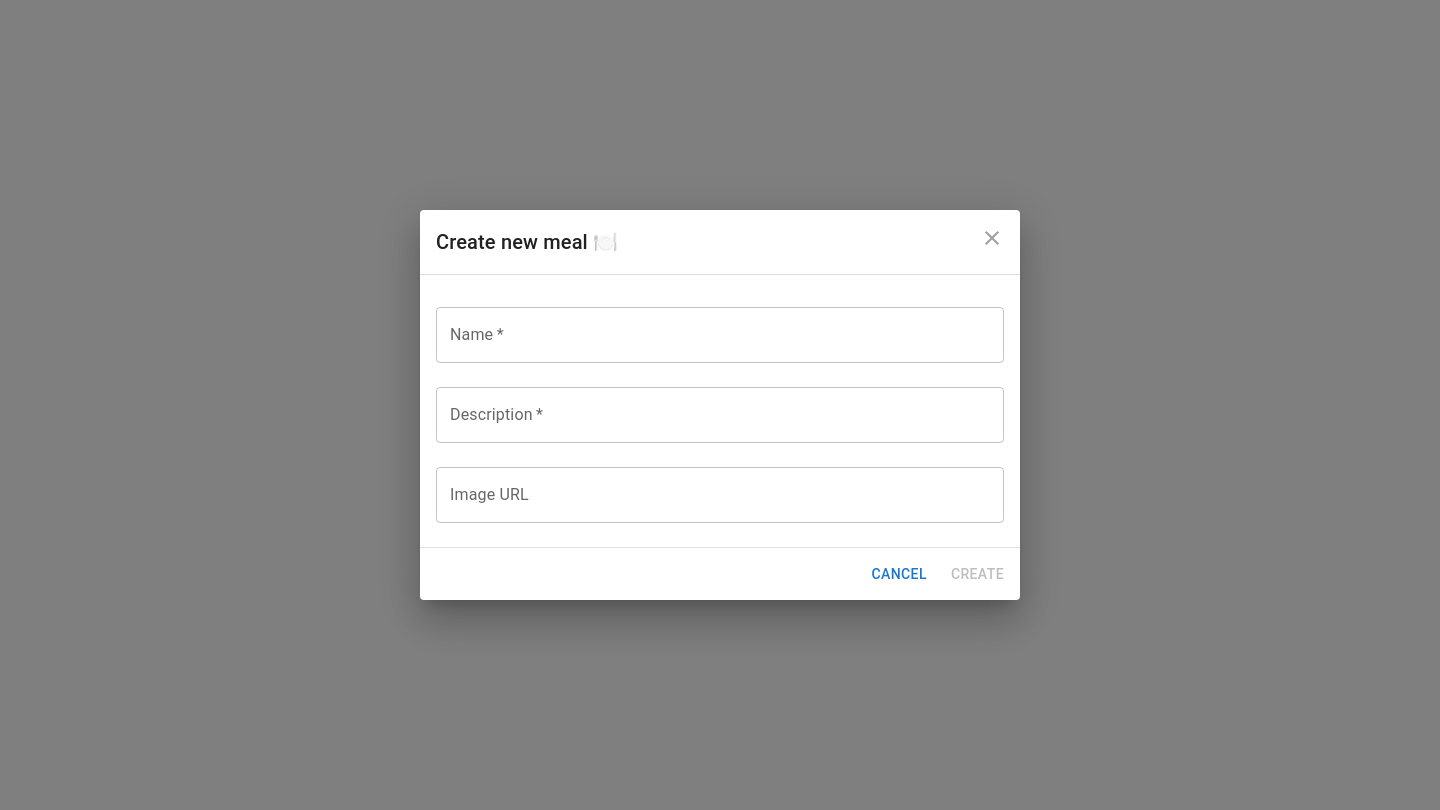
Test: Confirm button should be disabled if there is no name and description
Expected: the button "Create" is disabled, [943,556,1012,592]
In the field labelled "Name *": (720, 335) [436,307,1004,363], type "type something"
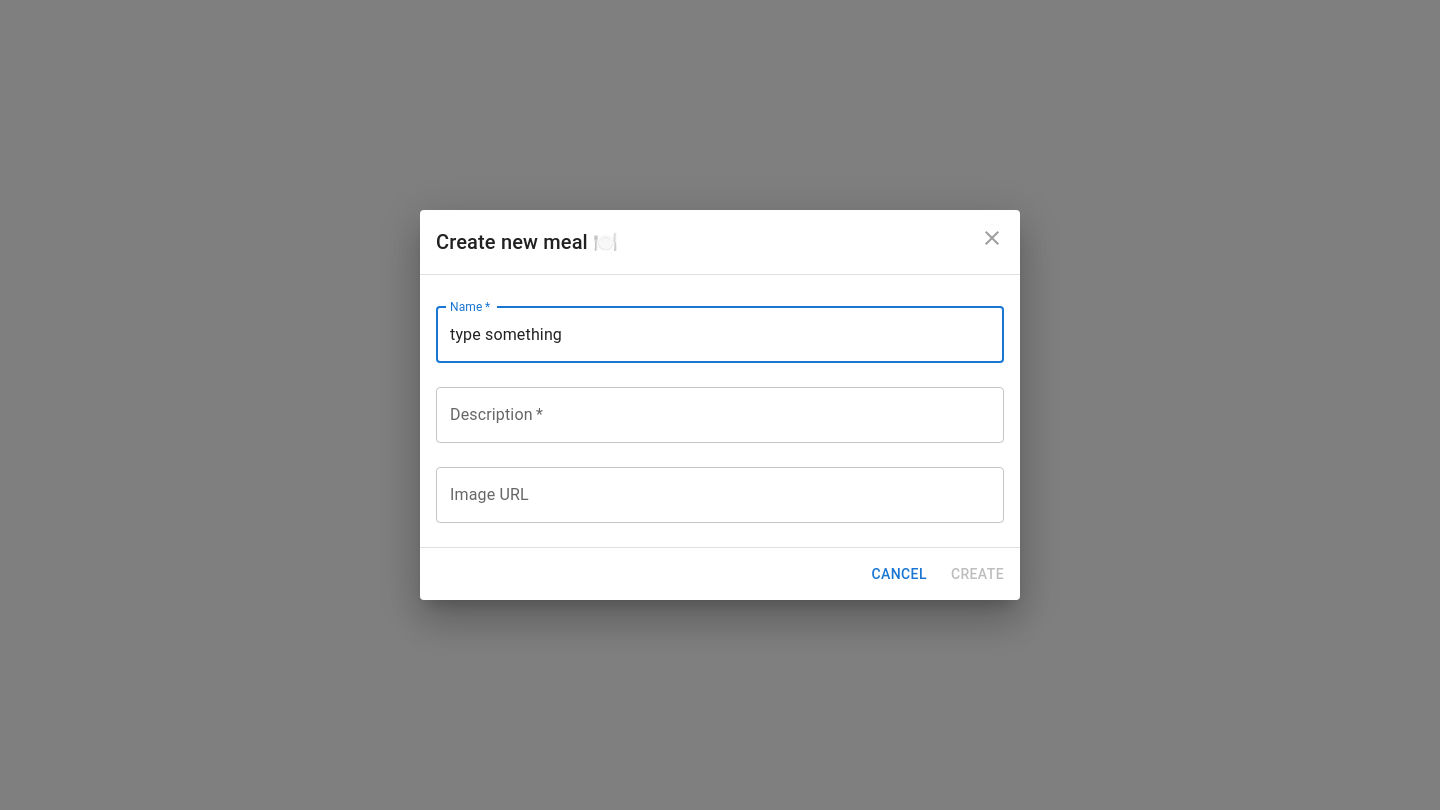
Expected: the button "Create" is disabled, [943,556,1012,592]
In the field labelled "Description *": (720, 415) [436,387,1004,443], type "type something"
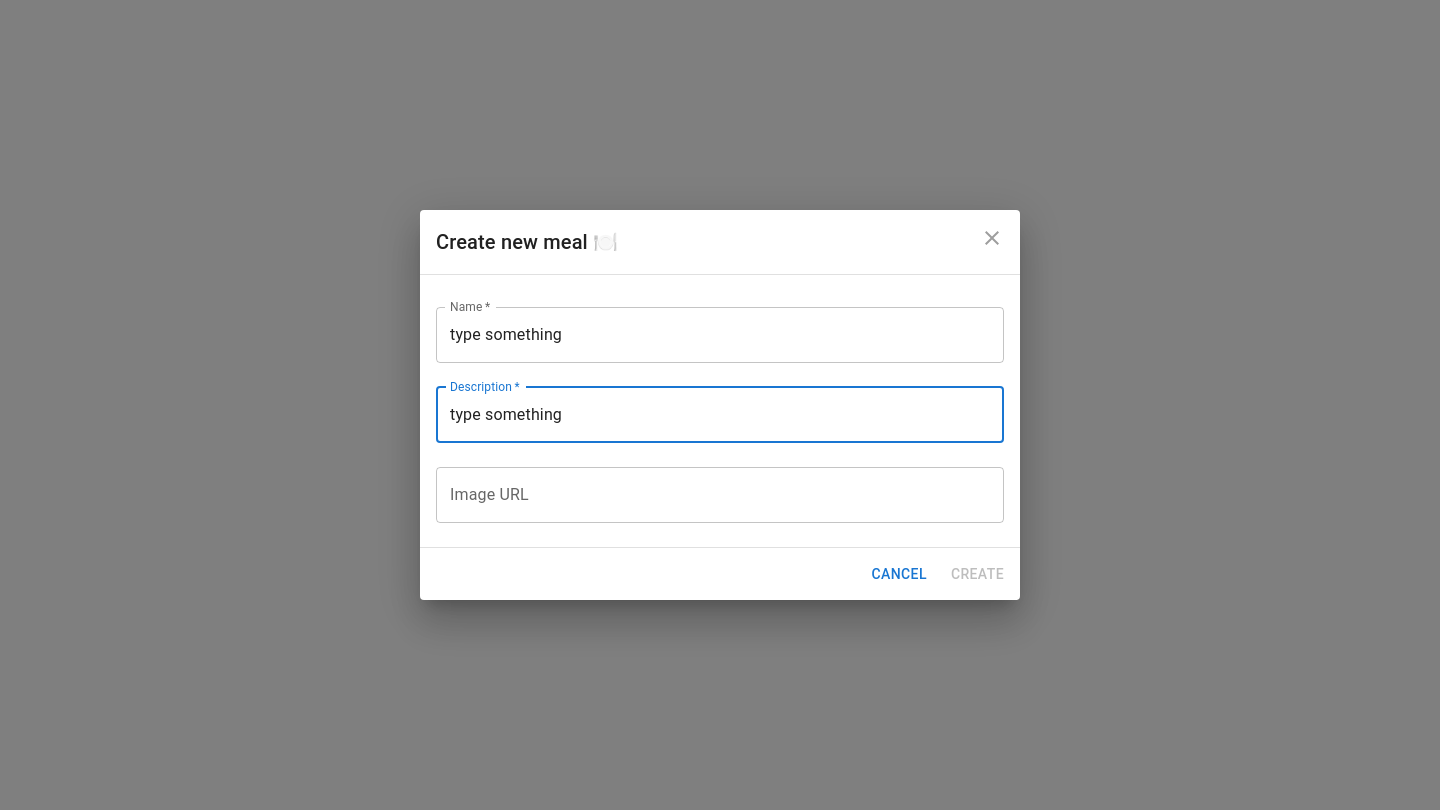
Expected: the button "Create" is disabled, [943,556,1012,592]
In the field labelled "Image URL": (720, 495) [436,467,1004,523], type "type something"
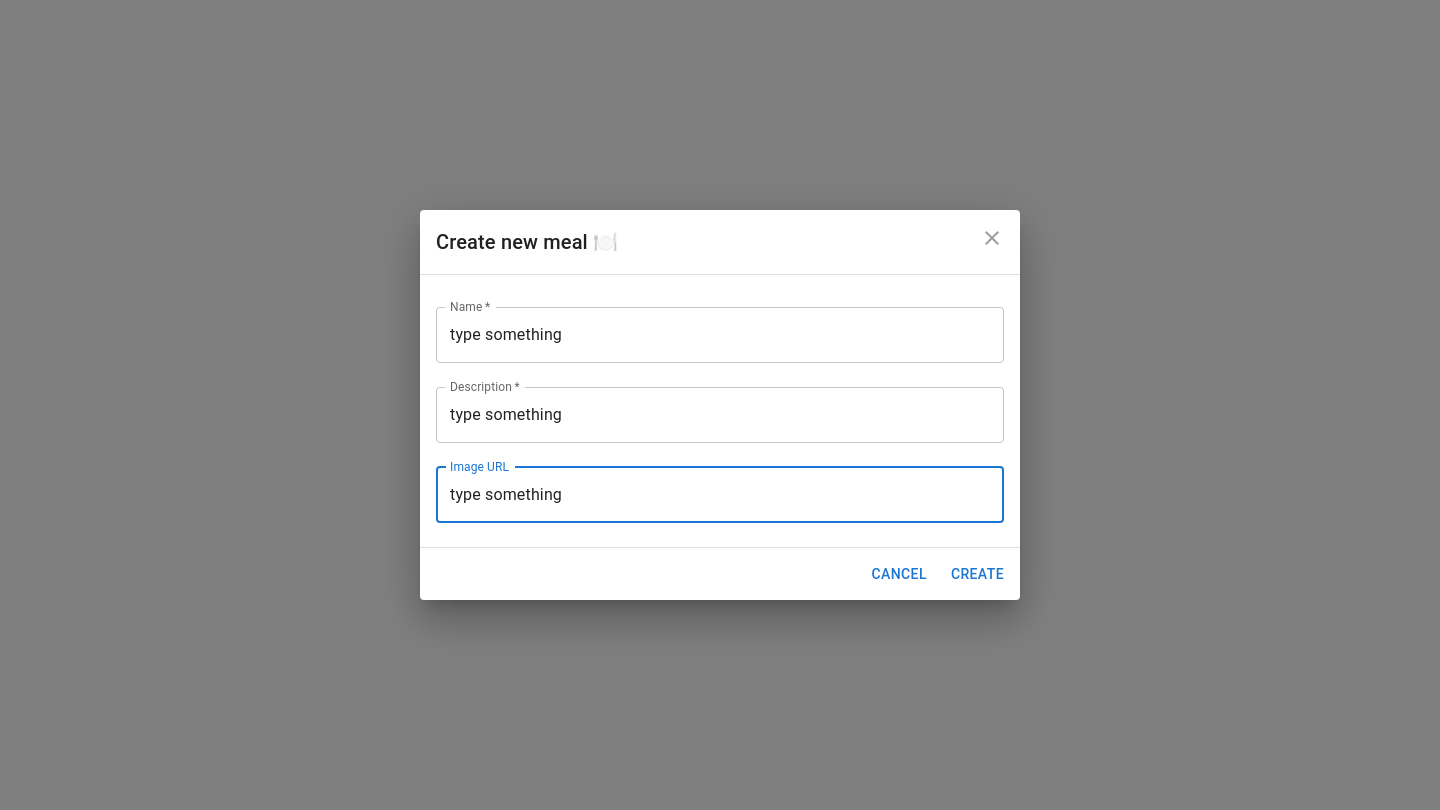
Expected: the button "Create" is enabled, [943,556,1012,592]
